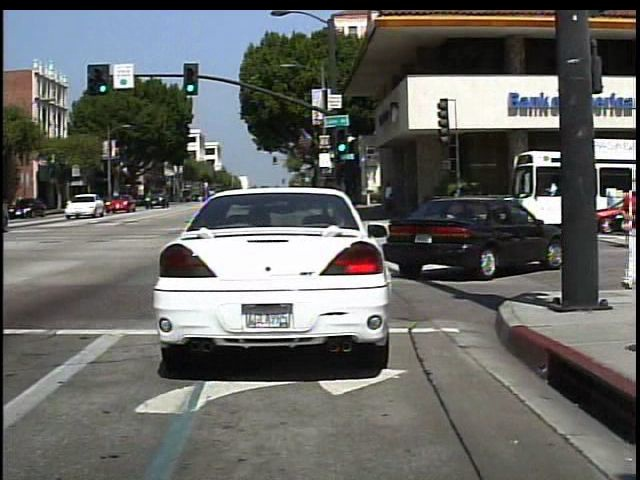person: (381, 177, 399, 218)
